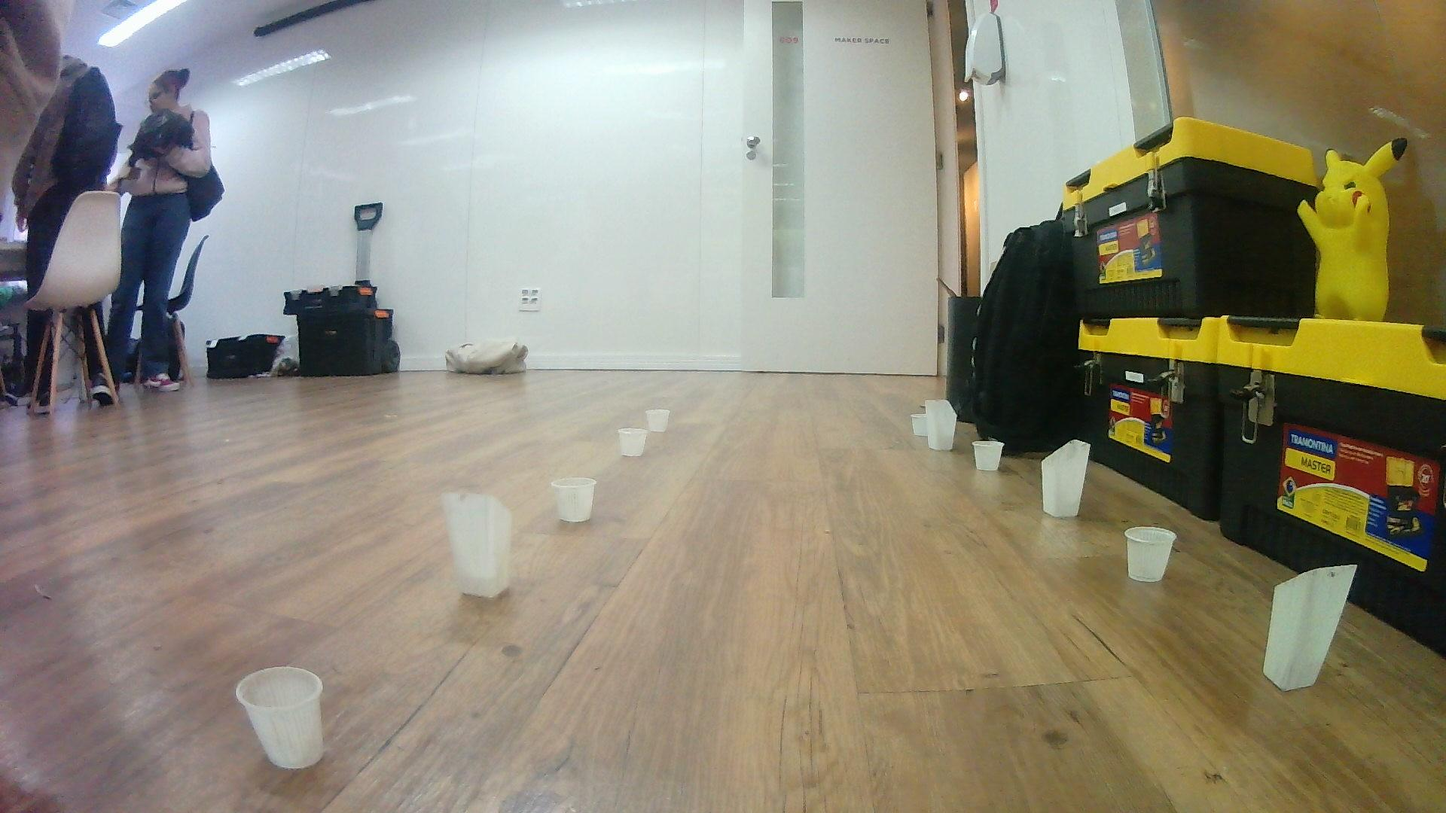erva_daninha: (1261, 564, 1357, 693), (439, 486, 514, 598), (1040, 439, 1093, 519), (923, 399, 959, 451)
planta: (233, 665, 328, 772), (1124, 526, 1178, 583), (551, 477, 598, 525), (972, 440, 1005, 472), (618, 428, 647, 458), (645, 409, 671, 434), (911, 414, 929, 437)
